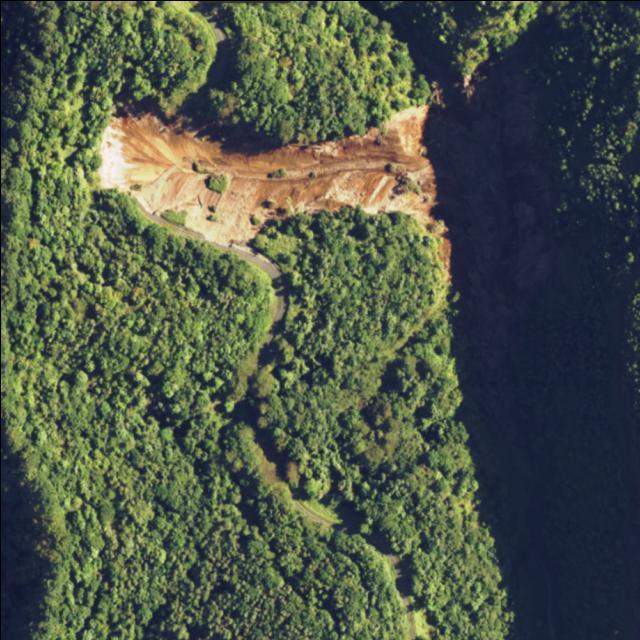landslide: (97, 104, 435, 245)
